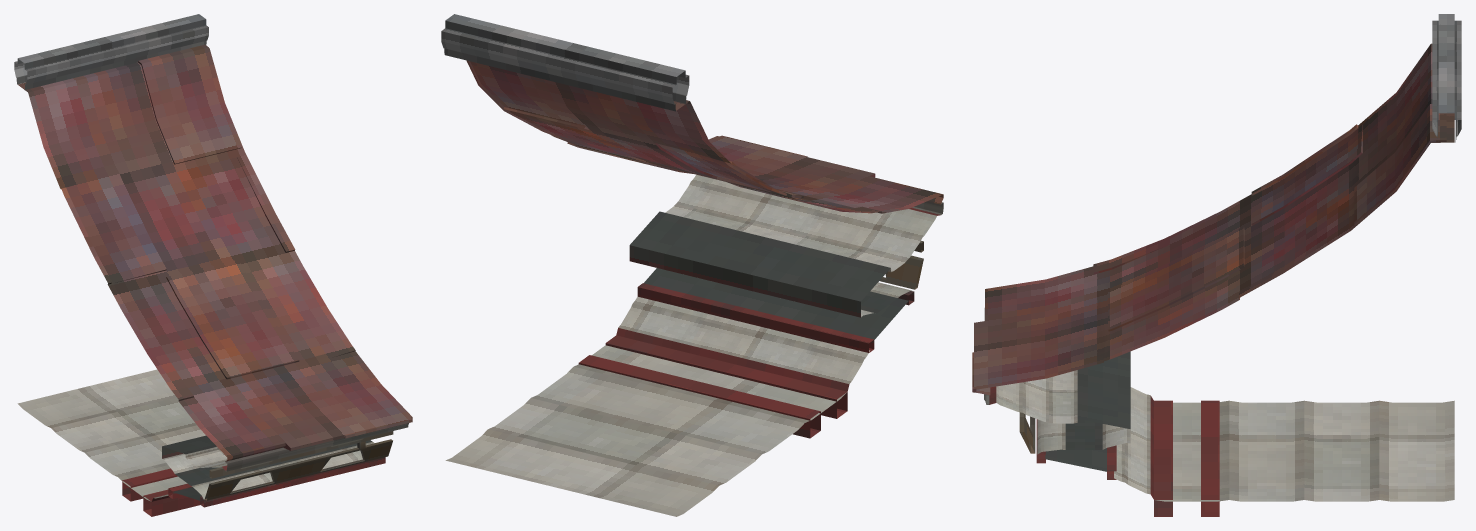
Rendered from Pagoda_Tile_Roof_2500x5000_A.FBX.
3 views of the same model, side by side, from view 1: azimuth 30°, elevation 25°; view 2: azimuth 150°, elevation 25°; view 3: azimuth 270°, elevation 25° (orthographic). The views are drawn at different scales.
Parts seen in each view (by area): view 1: Geometry_Pagoda_Tile_Roof_2500x5000_A_LOD00; view 2: Geometry_Pagoda_Tile_Roof_2500x5000_A_LOD00; view 3: Geometry_Pagoda_Tile_Roof_2500x5000_A_LOD00.
Boxes of the visible parts, bbox=[...] form: Geometry_Pagoda_Tile_Roof_2500x5000_A_LOD00: bbox=[14, 14, 412, 516]; Geometry_Pagoda_Tile_Roof_2500x5000_A_LOD00: bbox=[441, 14, 943, 516]; Geometry_Pagoda_Tile_Roof_2500x5000_A_LOD00: bbox=[972, 14, 1461, 516].
Size of what is drawn, in the model's own units: 984 by 1867 by 2051.
